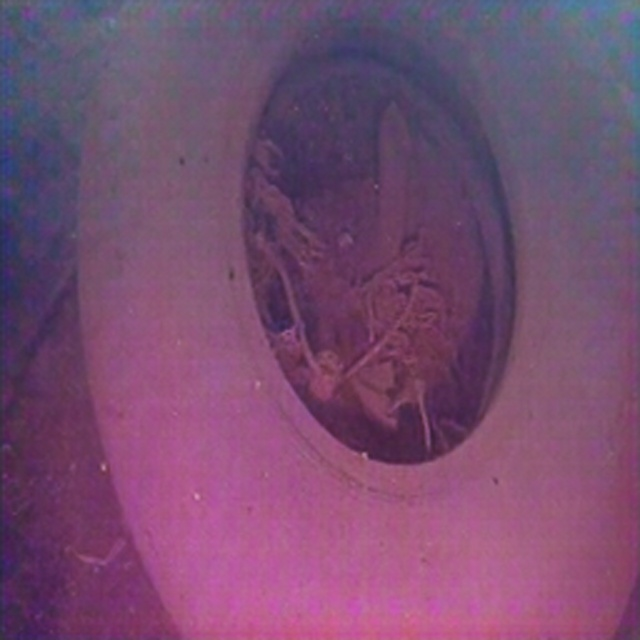mine: (75, 4, 640, 640)
